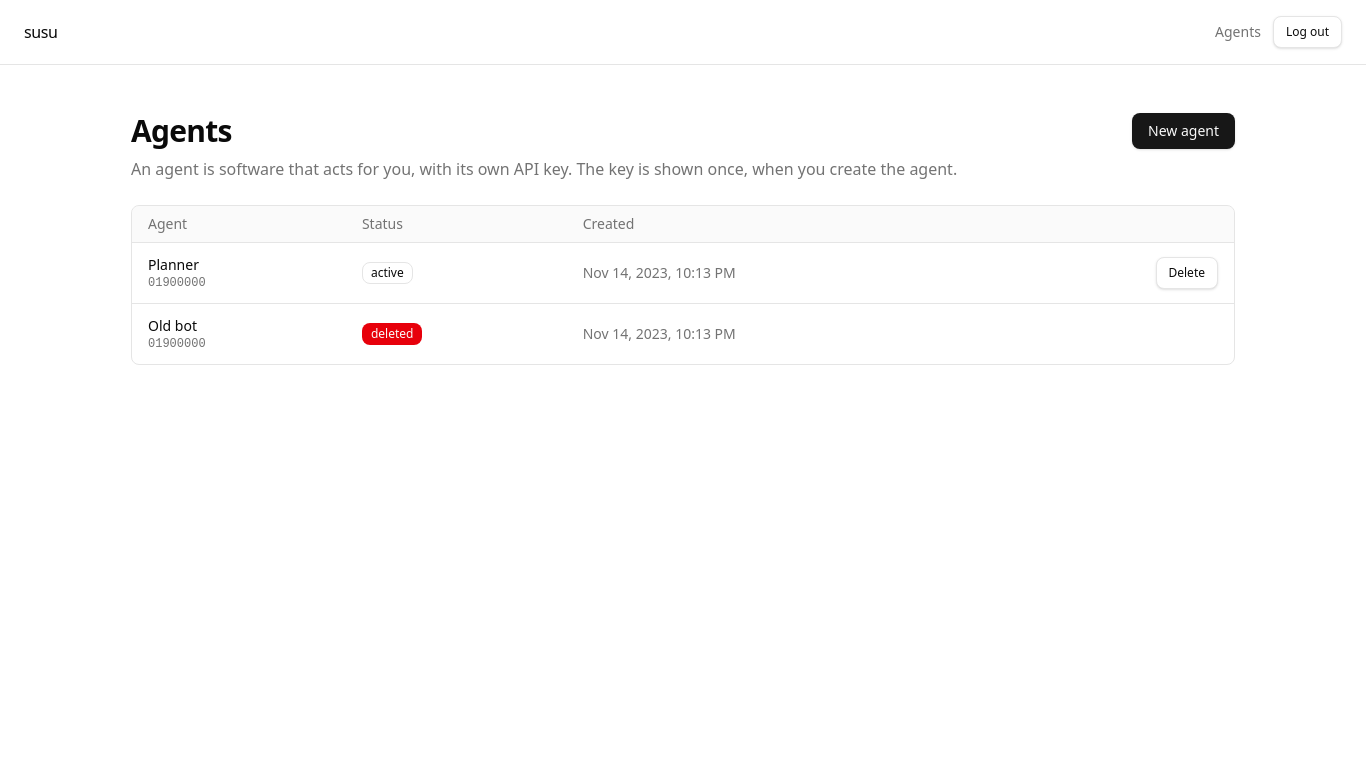
Test case: create › Escape closes the key dialog
Check: the text "Planner" is shown, box [148,255,199,274]
Click the button "New agent" at (1184, 131), box [1132,113,1235,149]
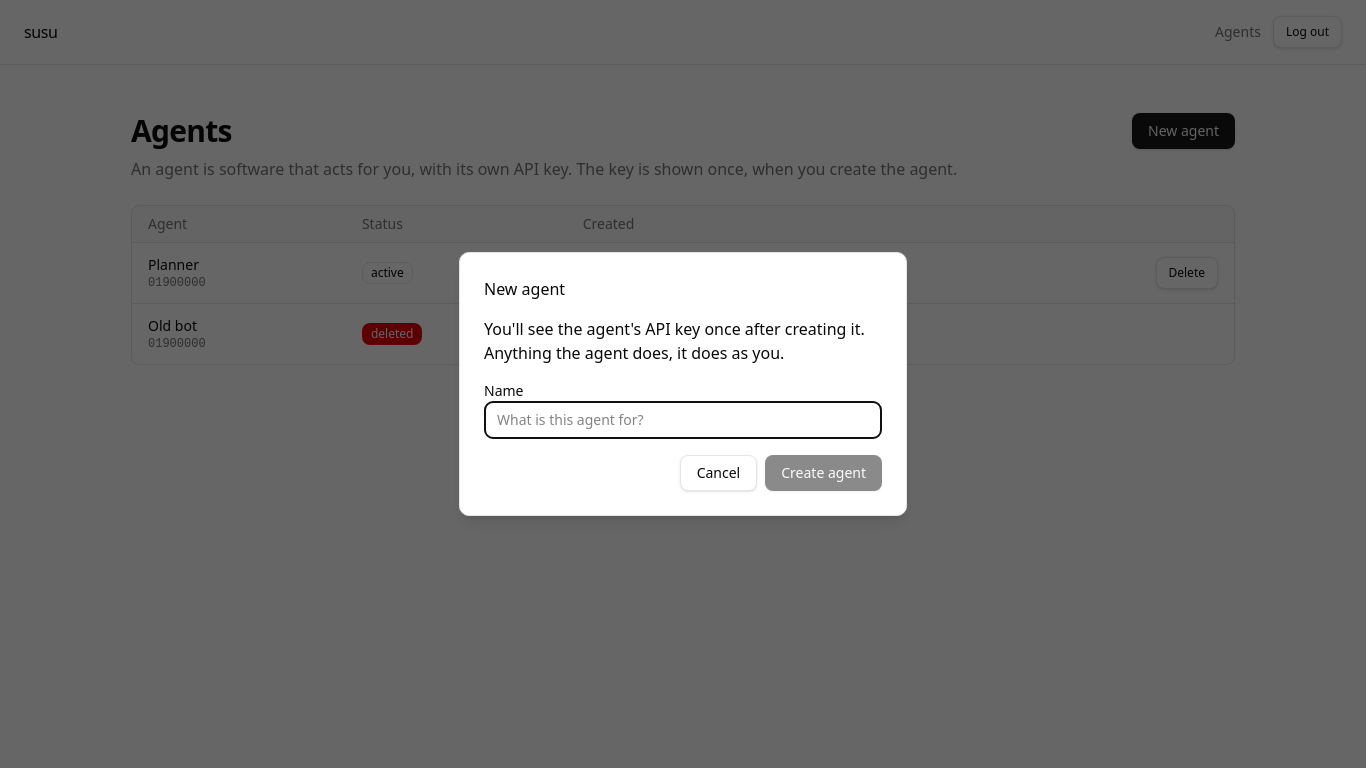
Type "Mailer" into the field labelled "Name" at (683, 420), box [484,401,882,439]
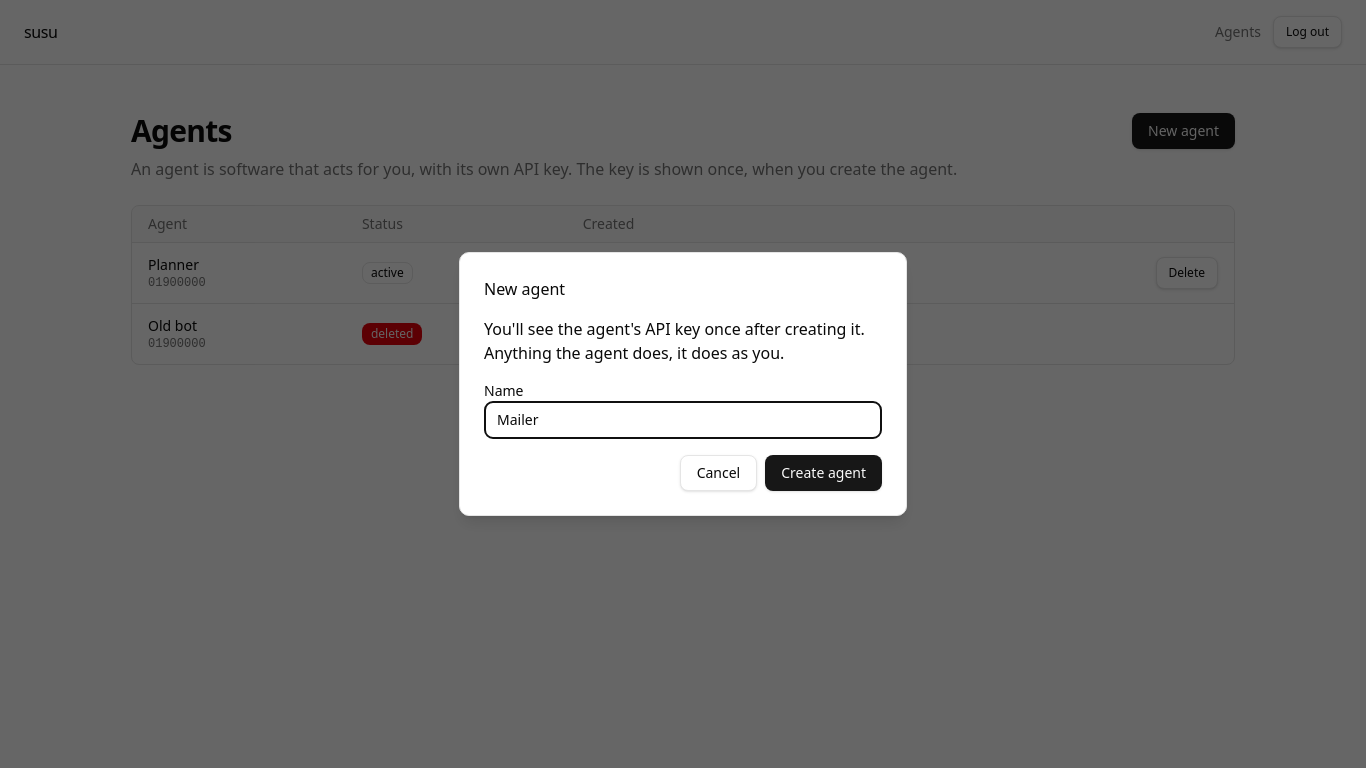
Click the button "Create agent" at (824, 473), box [765,455,882,491]
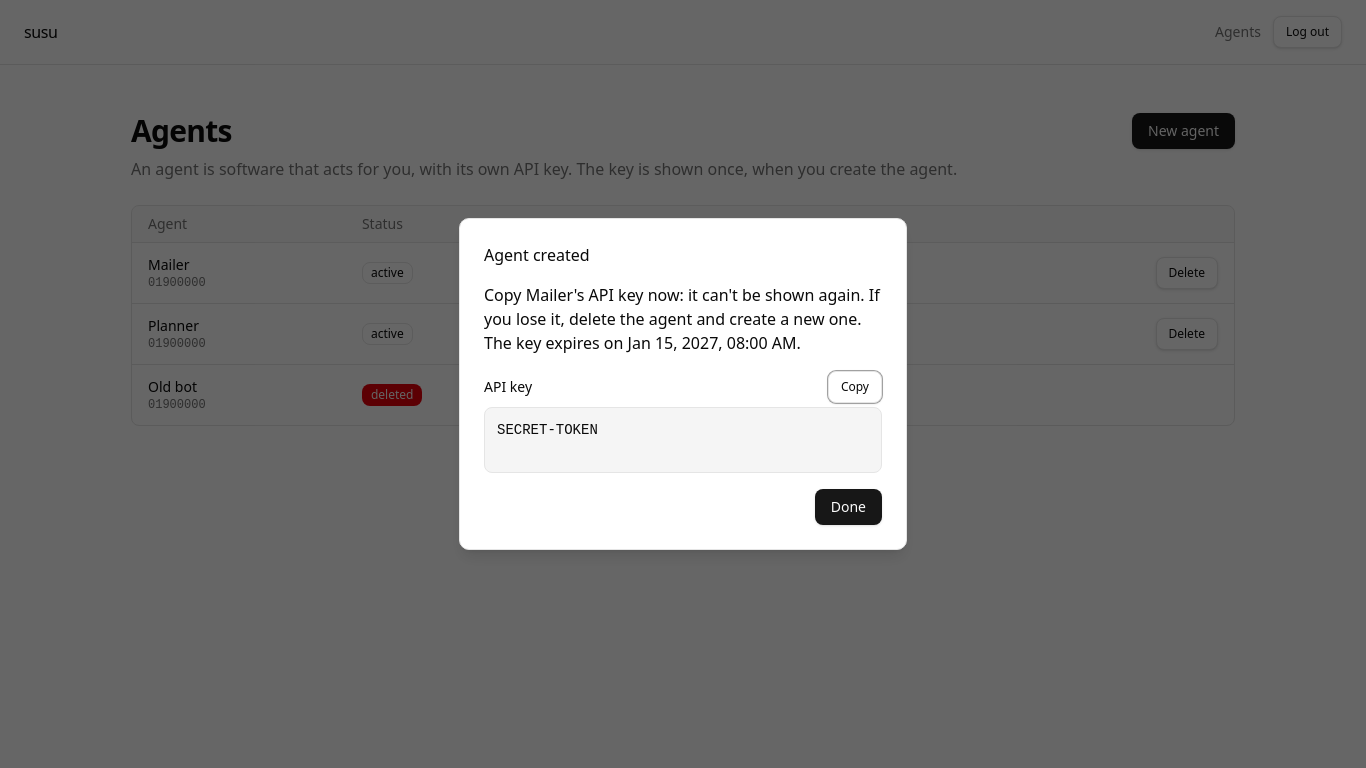
Check: the dialog "Agent created" is shown, box [459,218,907,550]
Press Escape
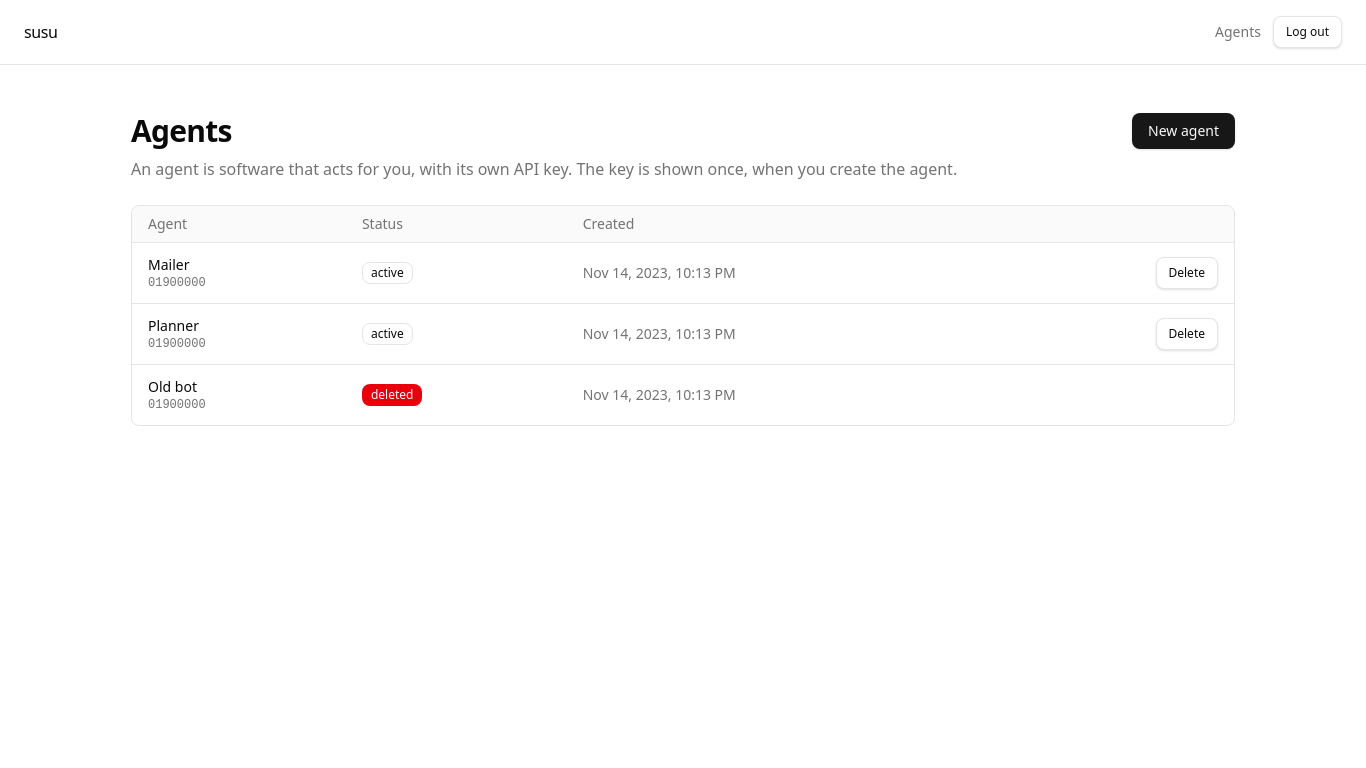
Check: the dialog is gone
